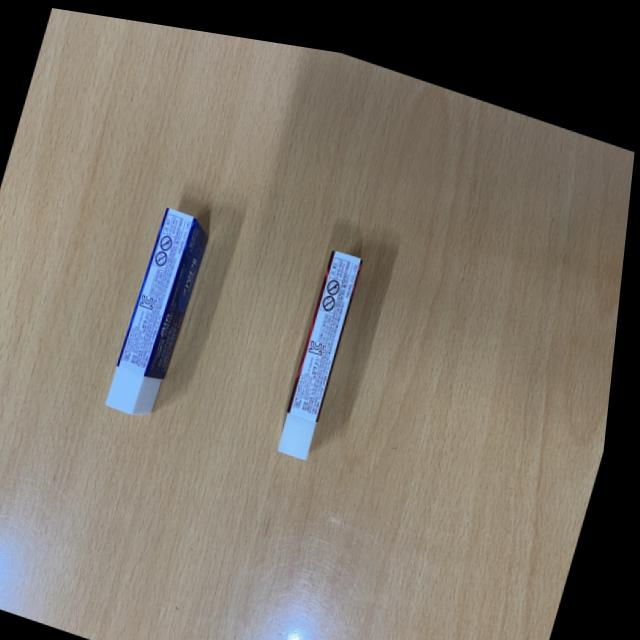blue: (109, 191, 221, 423)
red: (278, 224, 375, 459)
